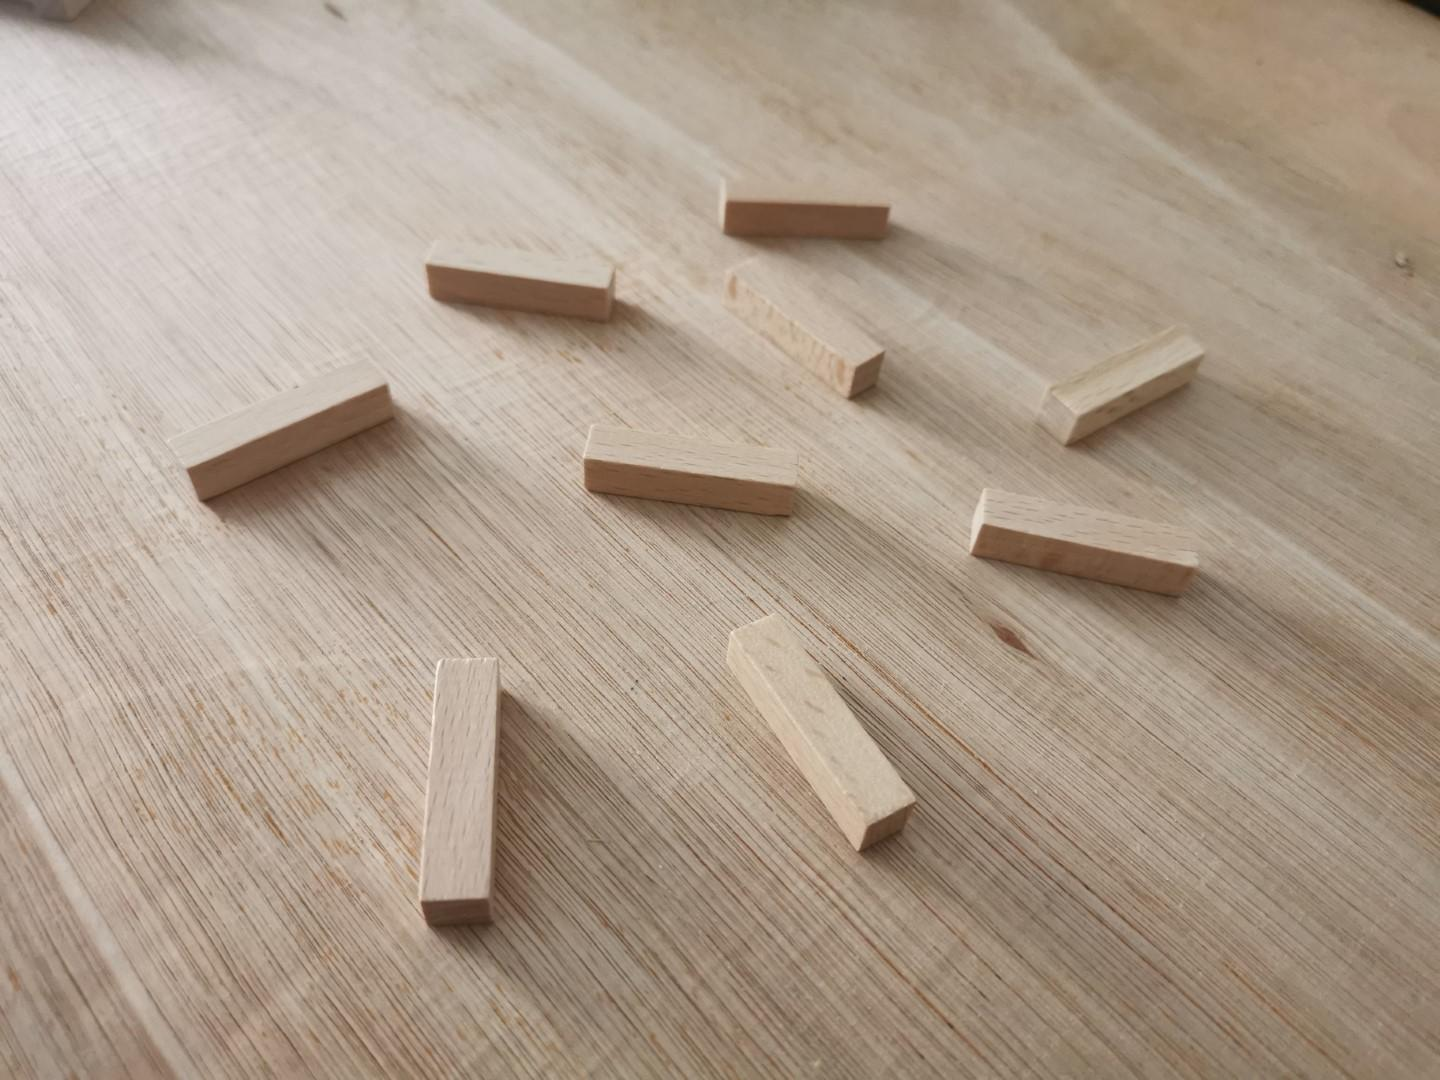jenga: (729, 614, 916, 852), (167, 362, 393, 499), (969, 487, 1200, 594), (726, 256, 886, 397), (418, 658, 499, 926), (1039, 326, 1208, 444), (583, 424, 798, 515), (426, 238, 615, 320), (720, 177, 891, 237)
